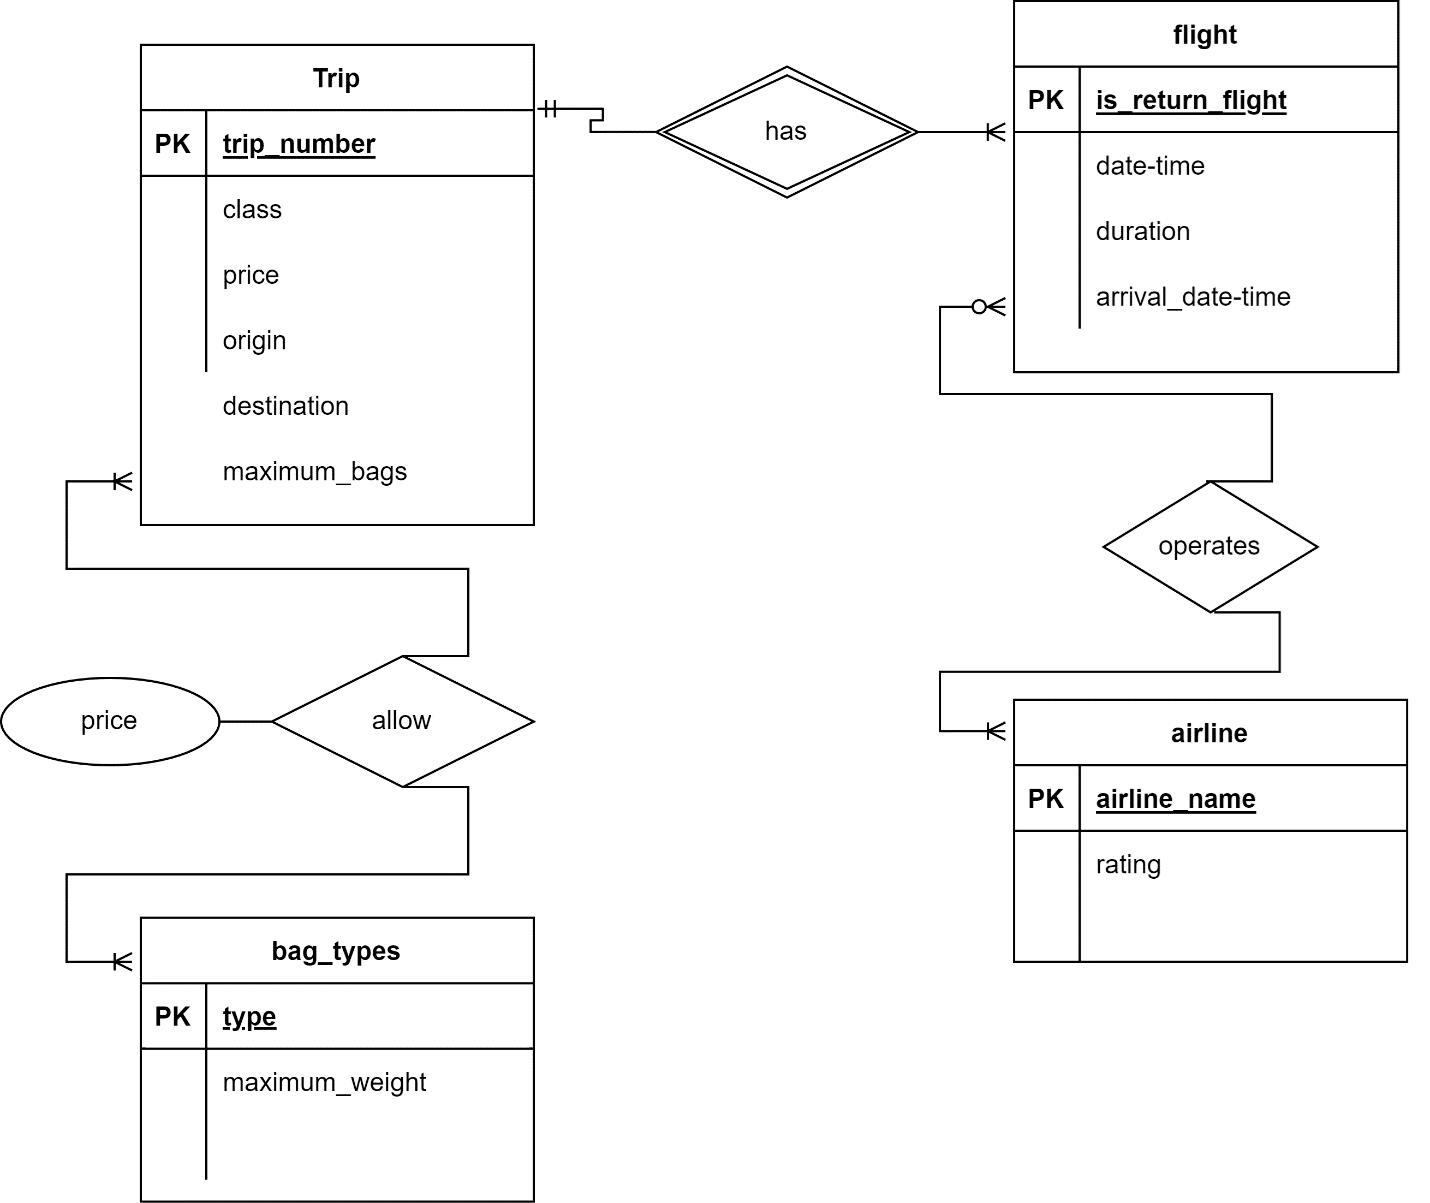attribute: (4, 675, 222, 765)
entity: (136, 43, 536, 523), (1012, 1, 1400, 376), (138, 913, 534, 1203), (1012, 695, 1410, 963)
relationship: (275, 656, 535, 788), (1101, 483, 1315, 613)
weakrelationship: (661, 69, 922, 196)
